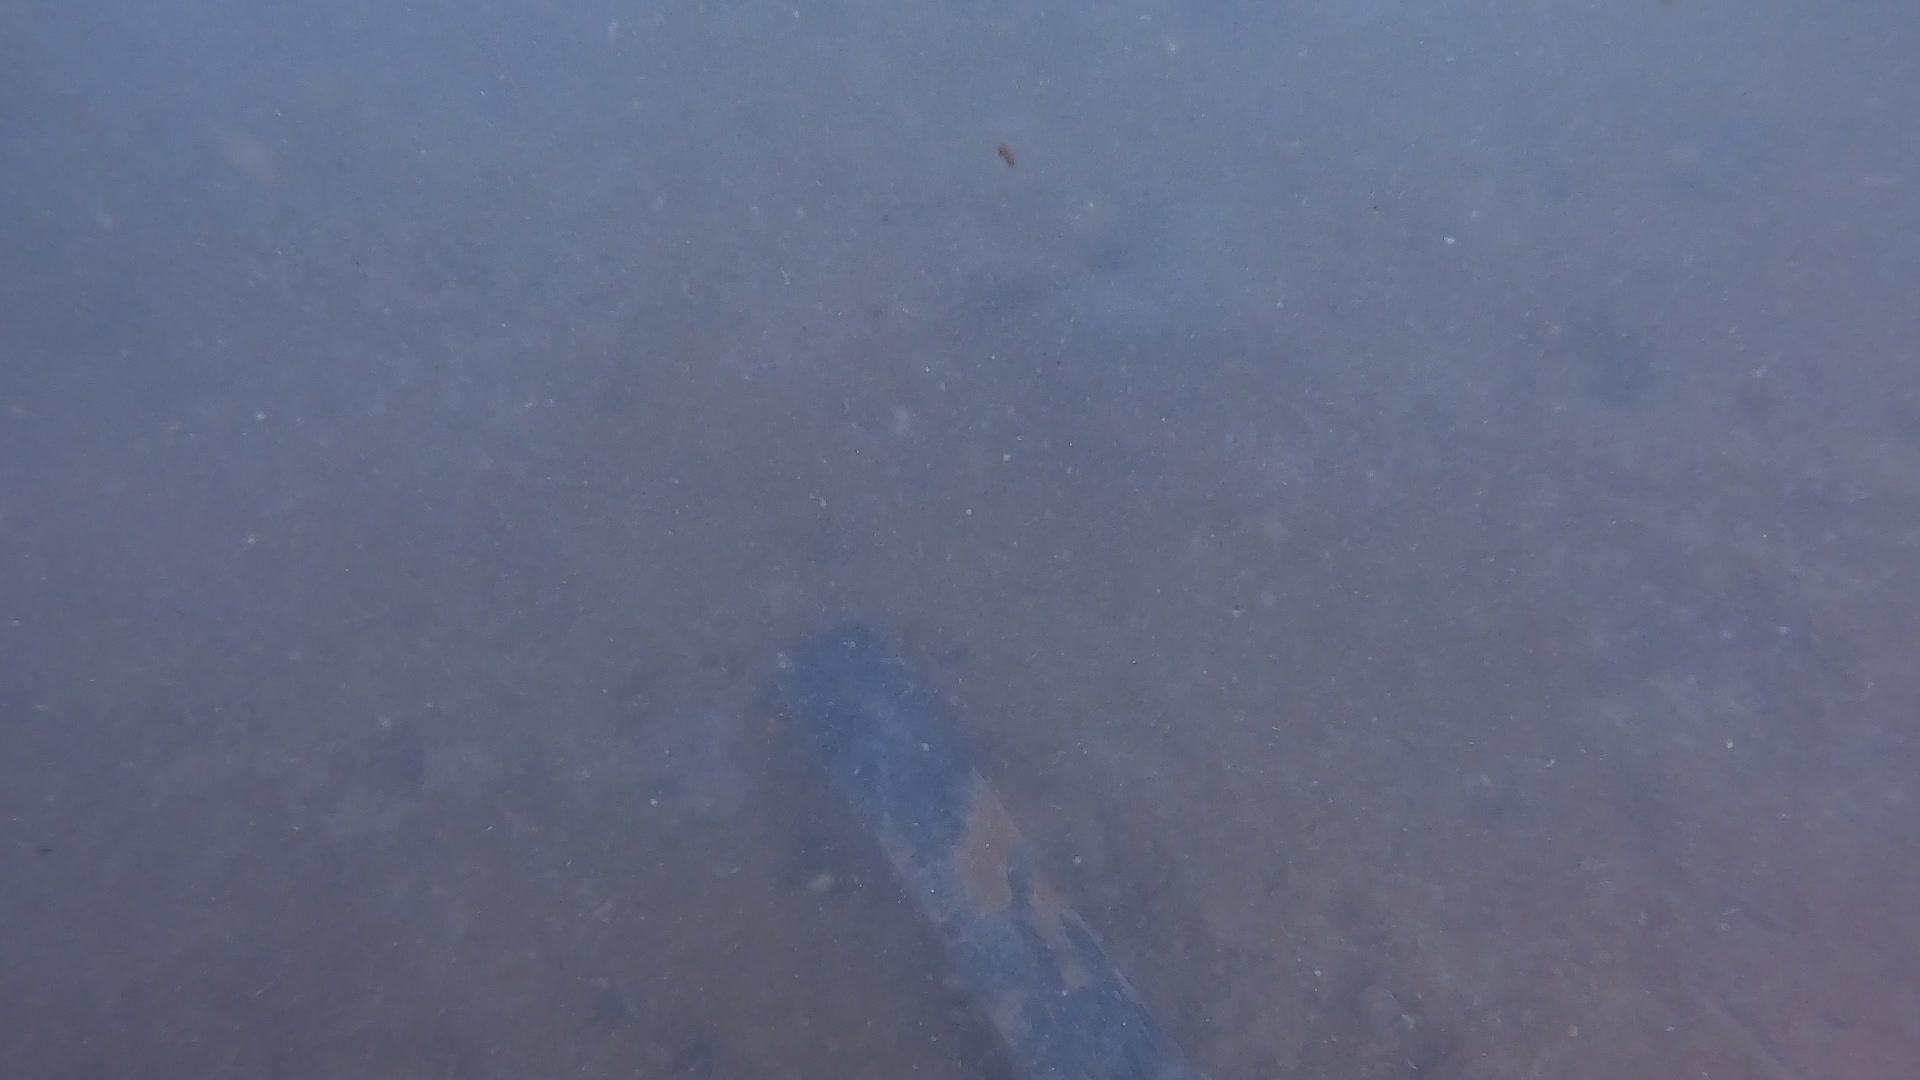wood: (770, 601, 1179, 1075)
